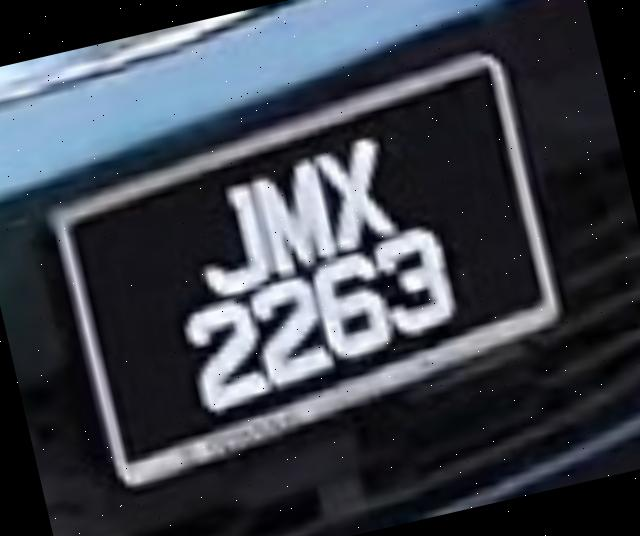License_Plate: (9, 13, 620, 536)
